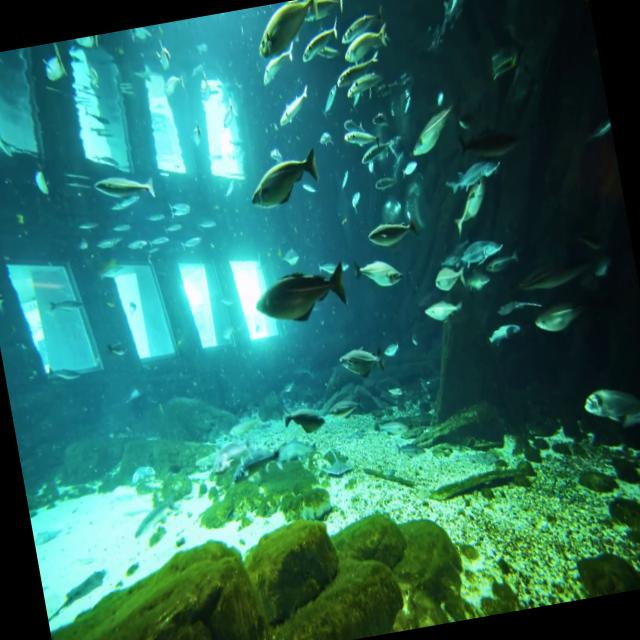fish: (252, 258, 350, 325), (247, 148, 323, 212), (249, 0, 323, 58), (365, 209, 421, 248), (353, 254, 403, 294)
